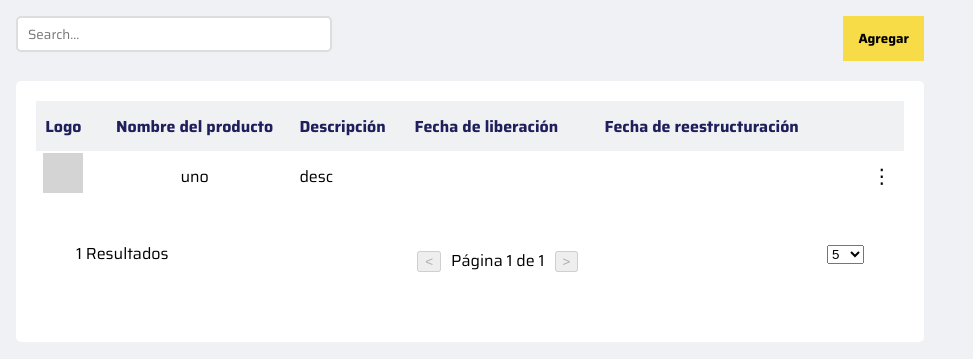
Scenario: ProductsTable component - test › should show dropdown options when click in options button
Click the button with test id "dropdown-button" at point(882, 176), box x1=866 y1=162 x2=898 y2=188
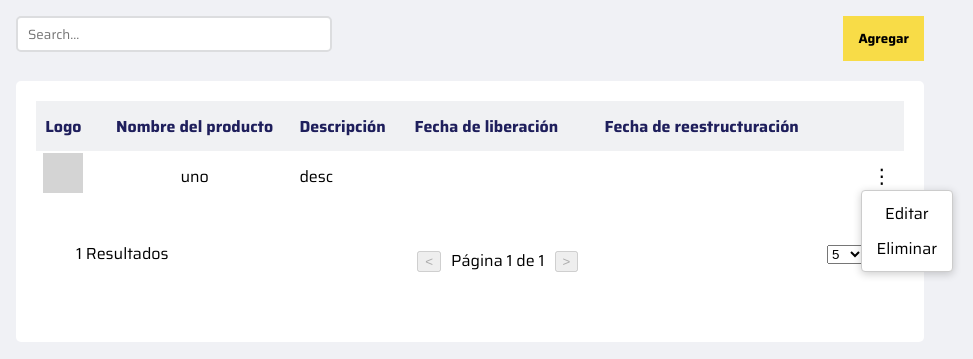
Check: the list item "Editar" is shown, box x1=885 y1=200 x2=929 y2=226
